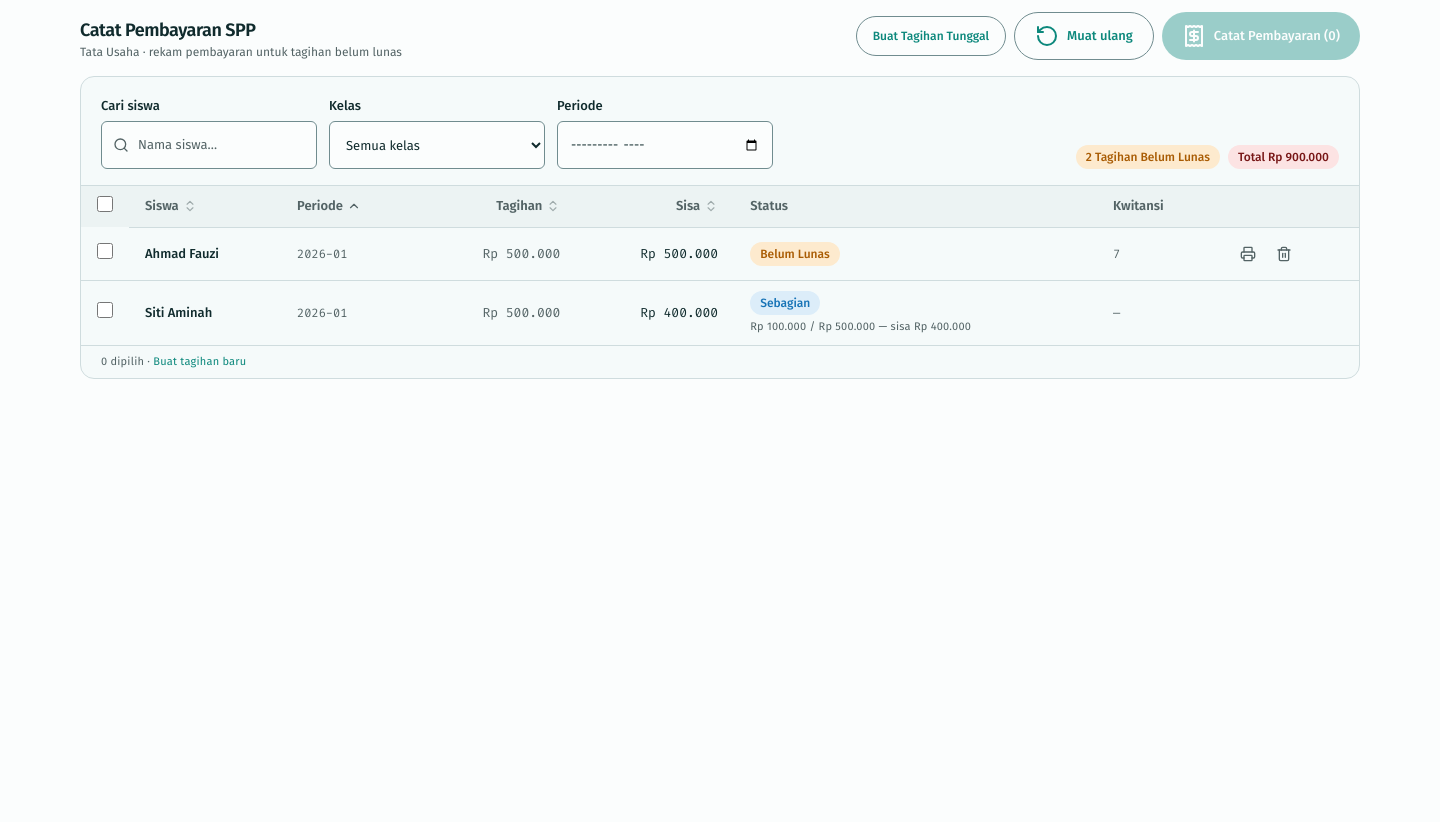
SppPaymentsPage › voids a payment via the real DELETE endpoint
The image size is (1440, 822).
Click the button named "Void pembayaran Ahmad Fauzi" at (1284, 254), box [1268,238,1300,270]
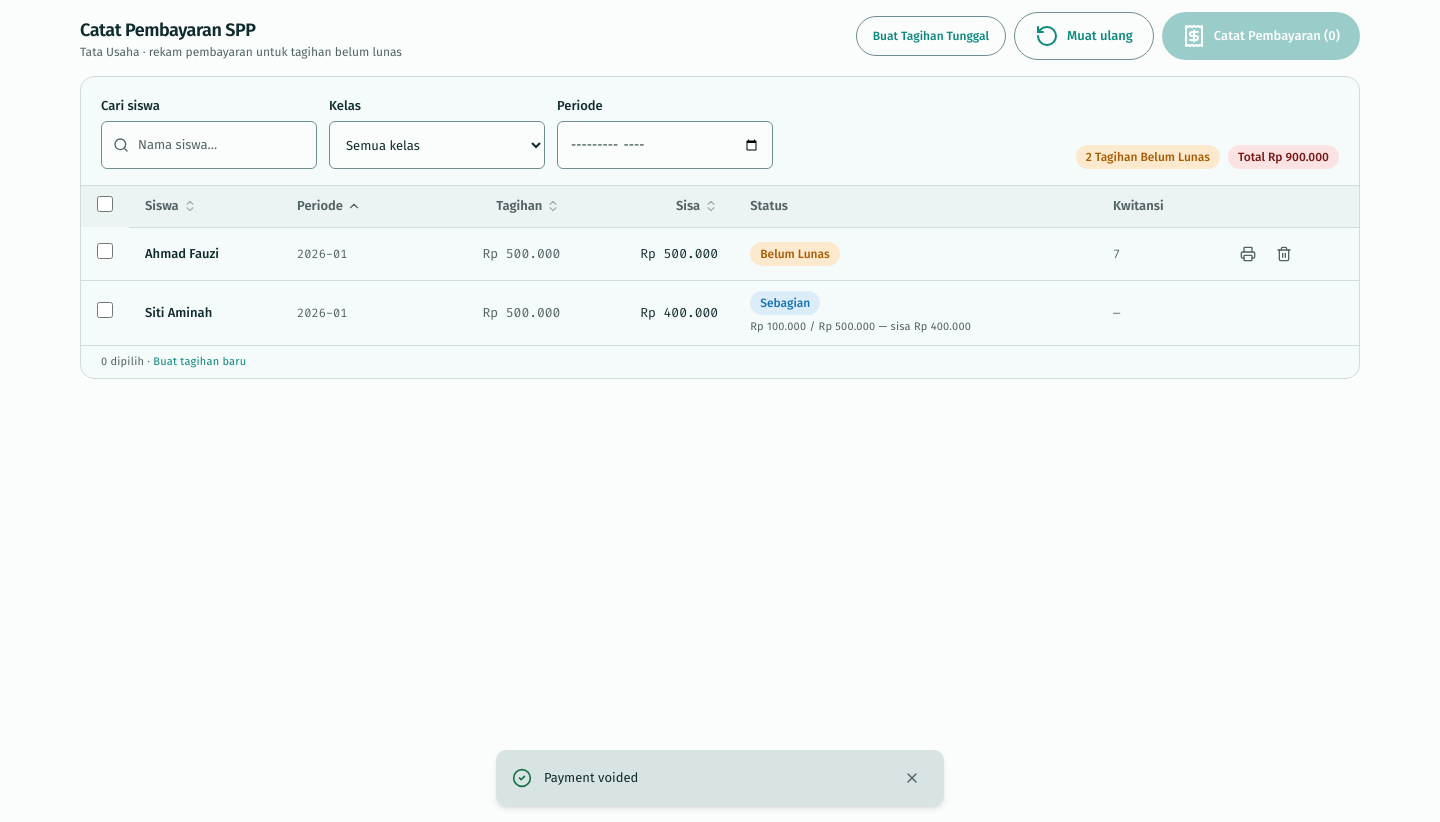
expect the text "Payment voided" is shown: met, box [544,770,638,785]
